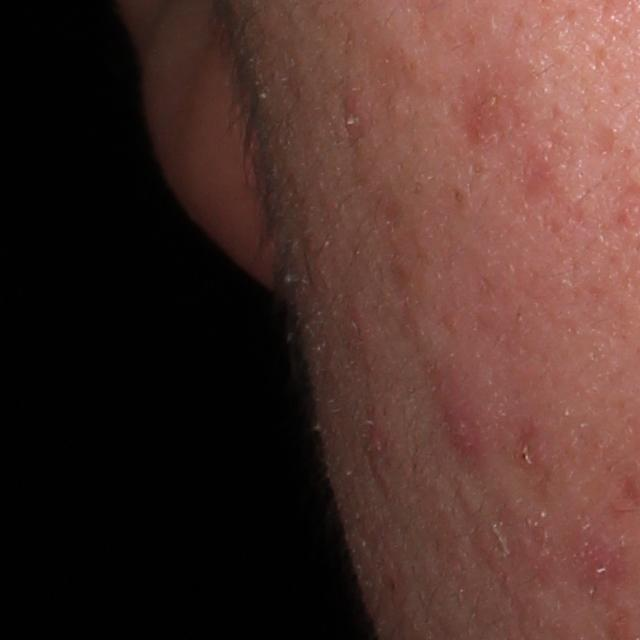papule: (425, 378, 502, 470)
